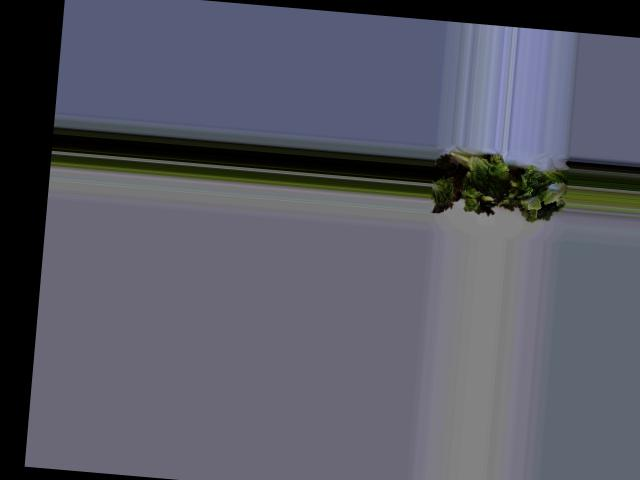lettuce: (434, 158, 561, 218)
